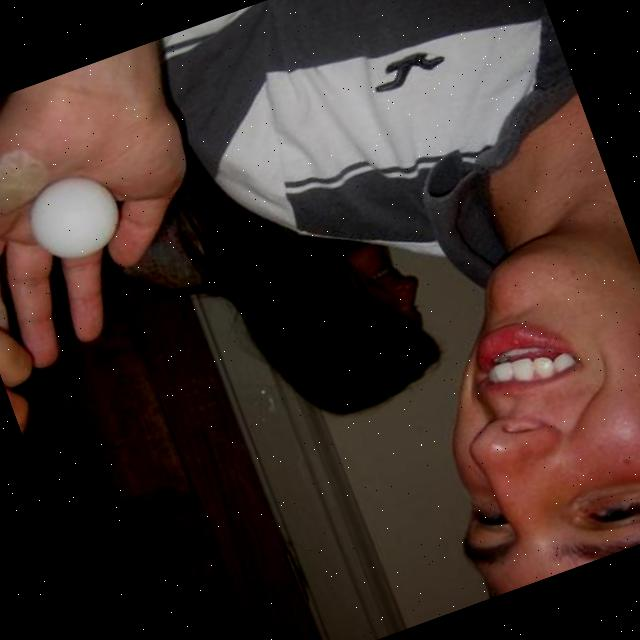ping-pong-ball: (15, 162, 130, 271)
